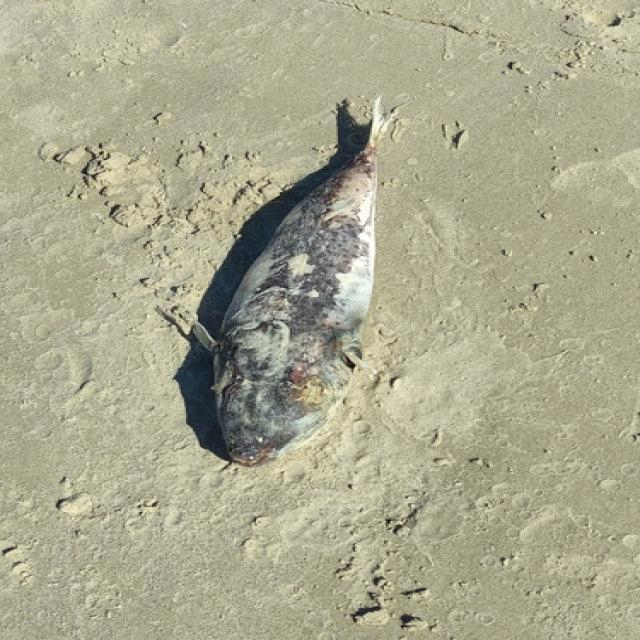Balik: (195, 99, 392, 465)
